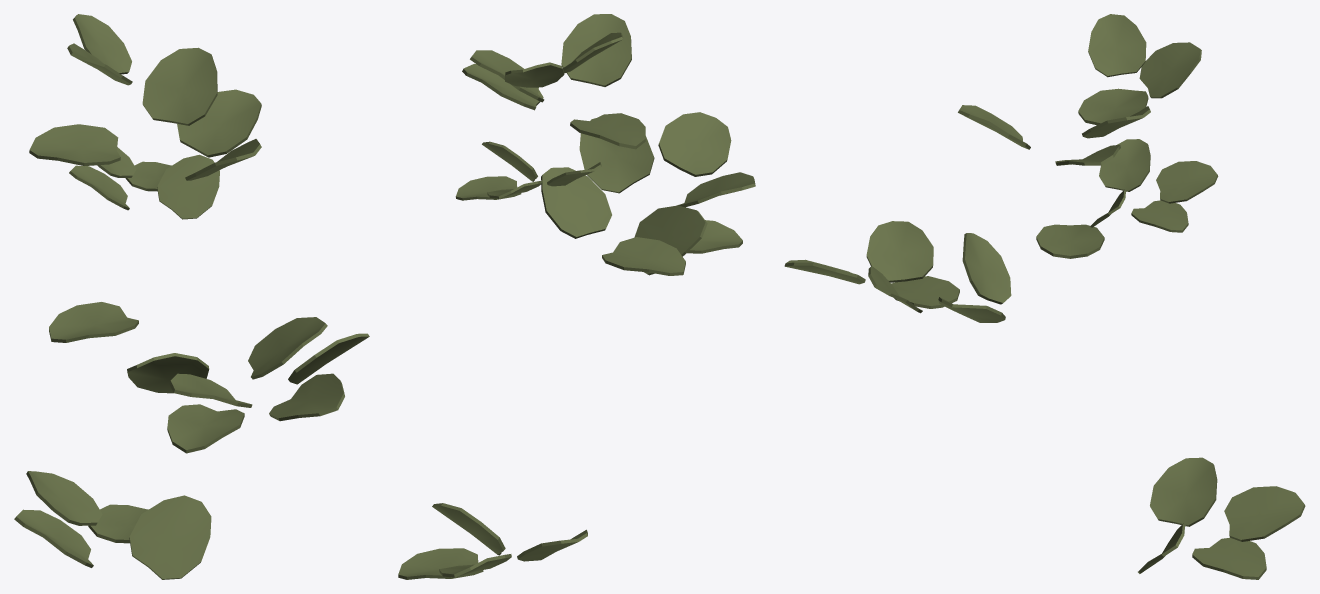
Rendered from yezi5.fbx.
The picture shows the model from 3 angles, left to right: view 1: azimuth 30°, elevation 25°; view 2: azimuth 150°, elevation 25°; view 3: azimuth 270°, elevation 25°; orthographic projection. The views are drawn at different scales.
Visible parts, largest first — view 1: polySurface90; view 2: polySurface90; view 3: polySurface90.
Part boxes in pixels (left/top/right/bottom): polySurface90: left=14, top=14, right=369, bottom=579; polySurface90: left=398, top=14, right=755, bottom=579; polySurface90: left=784, top=14, right=1305, bottom=579.
Size of the model in its own units: 1.81 by 4.48 by 4.17.
